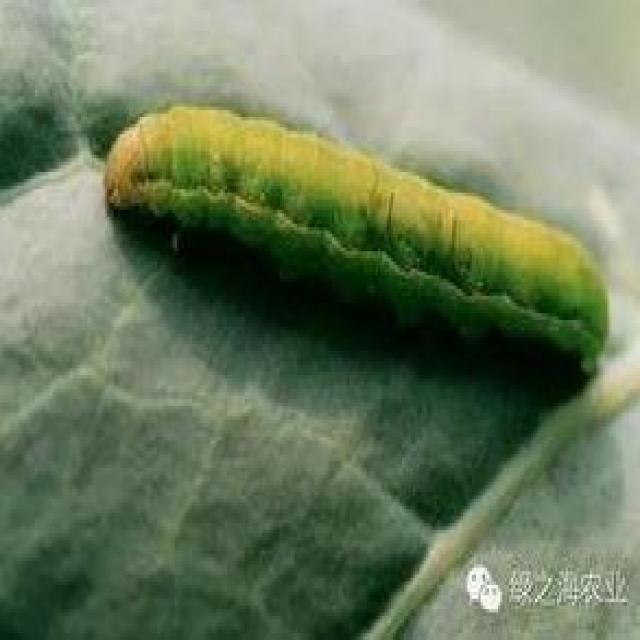BeetArmyWorm-Larva-: (102, 100, 615, 374)
